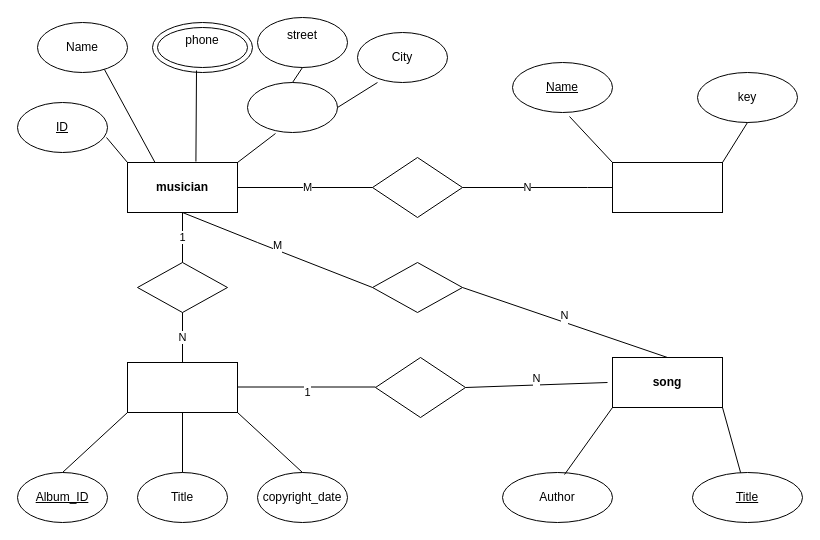
The diagram is 820 pixels wide and 540 high, and some of its shapes have lost their labels. Here are the shapes that lost their labels. From the top down, the centre of each, then its label:
At (x=292, y=107): "Address".
At (x=417, y=187): "Plays".
At (x=667, y=187): "instrument".
At (x=182, y=287): "Produce".
At (x=417, y=287): "Perform".
At (x=182, y=387): "Album".
At (x=420, y=387): "Appear".
